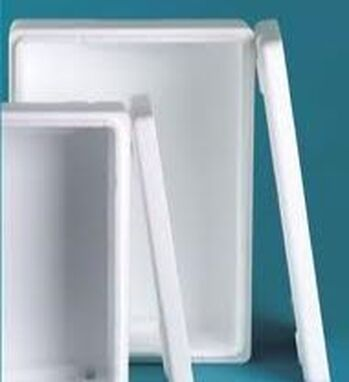Boxes: (1, 21, 327, 381)
